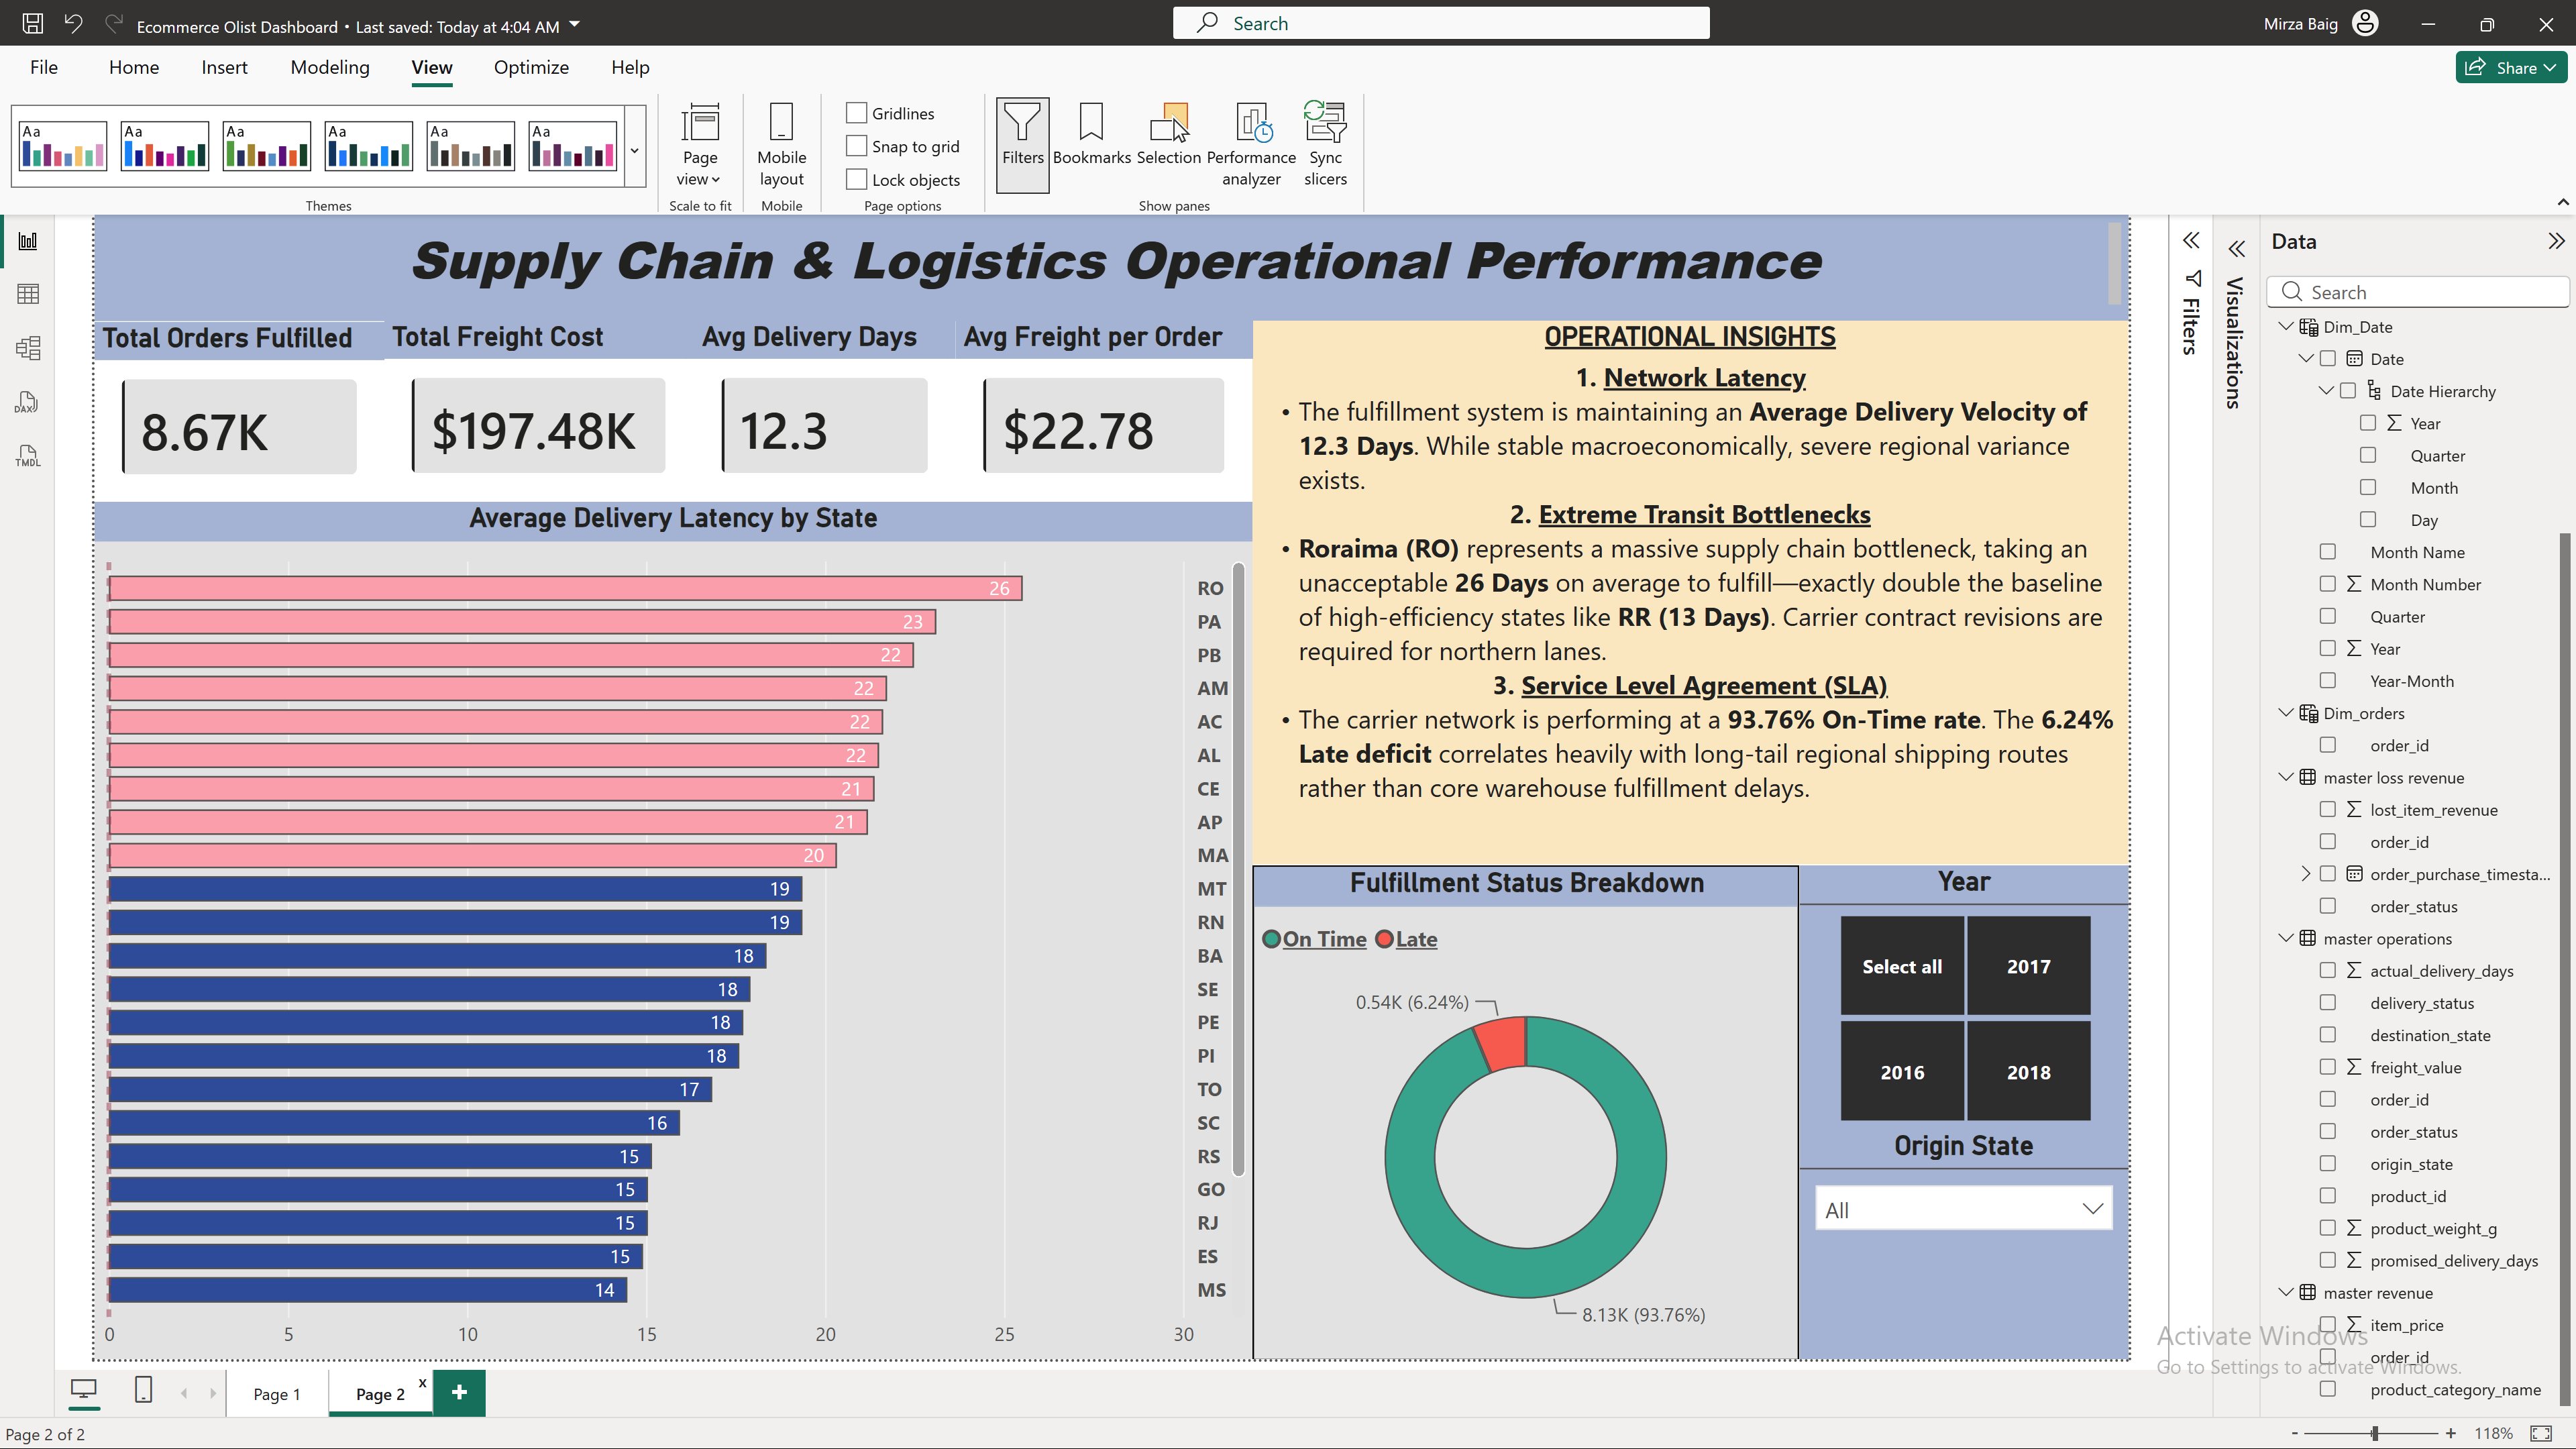

Layout of this report page (visuals, bound fields, positions):
{"tool":"powerbi","page":{"name":"Page 2","canvas":[1280,720],"ordinal":1},"visuals":[{"type":"textbox","box":[0,0,1280,67.2],"z":0},{"type":"cardVisual","title":"Total Orders Fulfilled","fields":{"Data":["_key measures.Total Orders"]},"box":[0,67.2,182.7,113.8],"z":1},{"type":"cardVisual","title":"Total Freight Cost","fields":{"Data":["Sum(master operations.freight_value)"]},"box":[182.7,67,194.9,113.7],"z":2},{"type":"cardVisual","title":"Avg Delivery Days","fields":{"Data":["Avg(master operations.actual_delivery_days)"]},"box":[377.6,67,164.4,113.7],"z":3},{"type":"clusteredBarChart","title":"Average Delivery Latency by State","fields":{"Category":["master operations.destination_state"],"Y":["Avg(master operations.actual_delivery_days)"]},"box":[0,180.7,728.8,541],"z":4},{"type":"donutChart","title":"Fulfillment Status Breakdown","fields":{"Category":["master operations.delivery_status"],"Y":["Count(master operations.order_id)"]},"box":[728.8,409.1,344.1,311.6],"z":7},{"type":"textbox","title":"OPERATIONAL INSIGHTS","box":[728.8,67,551.2,342.1],"z":8},{"type":"cardVisual","title":"Avg Freight per Order","fields":{"Data":["_key measures.Average Freight per Order"]},"box":[542,67,186.8,113.7],"z":9},{"type":"slicer","title":"Year","fields":{"Values":["Dim_Date.Date.Variation.Date Hierarchy.Year"]},"box":[1072.9,409.1,207.1,166.5],"z":10},{"type":"slicer","title":"Origin State","fields":{"Values":["master operations.origin_state"]},"box":[1072.9,575.5,207.1,145.2],"z":11}]}

Visuals, with their boxes on the page's 1280x720 design canvas (x1, y1, x2, y2). These are canvas units, not pixel positions in the 2576x1449 screenshot, which may show the page scaled, cropped or inside an application window:
textbox: x1=0 y1=0 x2=1280 y2=67
"Total Orders Fulfilled" cardVisual: x1=0 y1=67 x2=183 y2=181
"Total Freight Cost" cardVisual: x1=183 y1=67 x2=378 y2=181
"Avg Delivery Days" cardVisual: x1=378 y1=67 x2=542 y2=181
"Average Delivery Latency by State" clusteredBarChart: x1=0 y1=181 x2=729 y2=722
"Fulfillment Status Breakdown" donutChart: x1=729 y1=409 x2=1073 y2=721
"OPERATIONAL INSIGHTS" textbox: x1=729 y1=67 x2=1280 y2=409
"Avg Freight per Order" cardVisual: x1=542 y1=67 x2=729 y2=181
"Year" slicer: x1=1073 y1=409 x2=1280 y2=576
"Origin State" slicer: x1=1073 y1=576 x2=1280 y2=721
